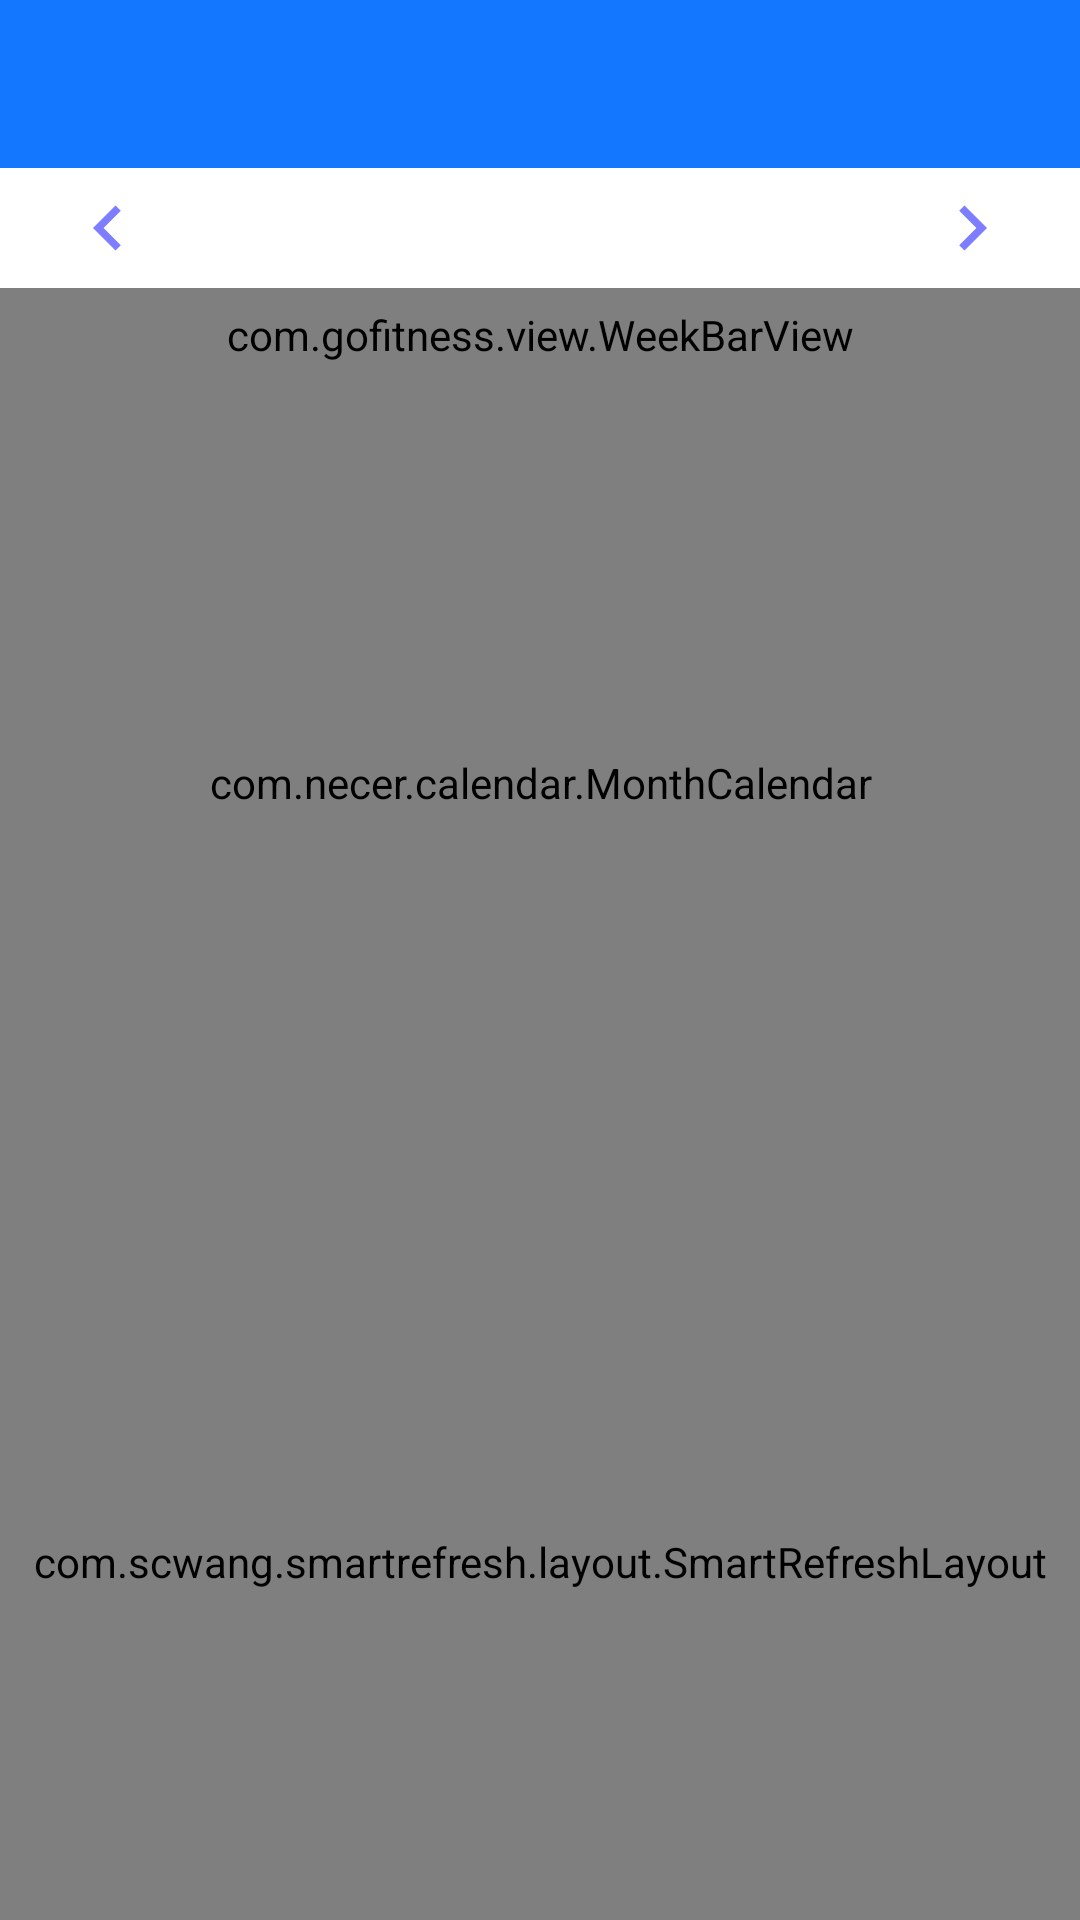

Point at icon controls on the screen. Image size 1080w x 1920h, points as [x,y].
navigate before: [108,228]
navigate next: [972,228]
